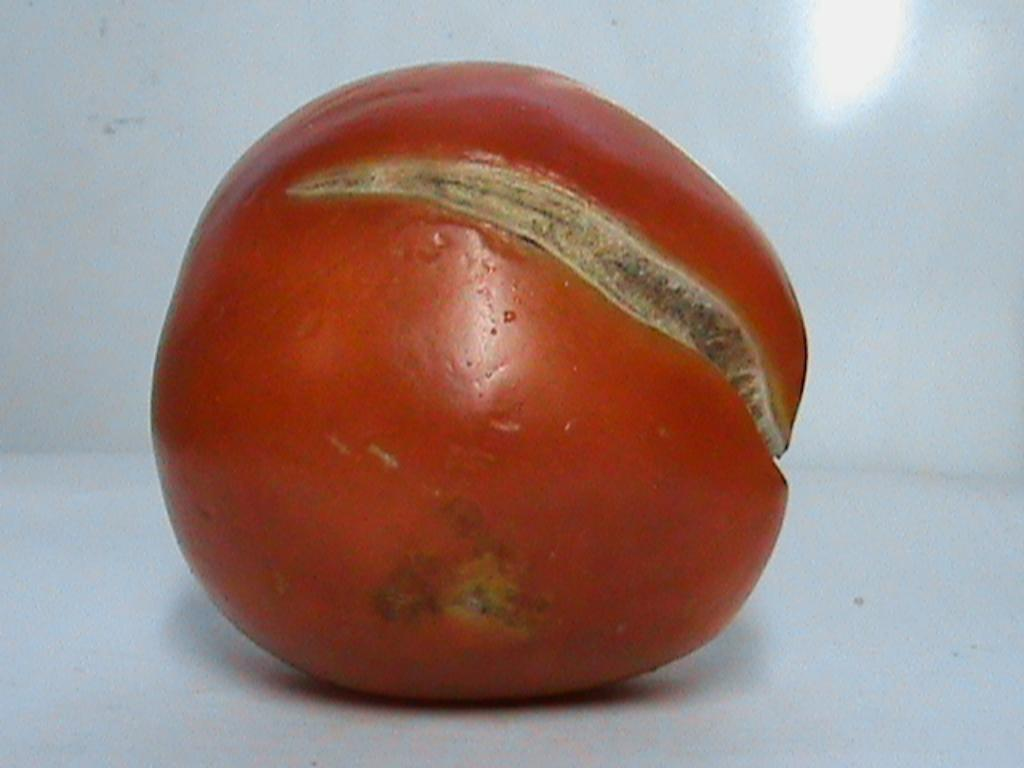bruise_discoloration: (376, 499, 547, 635)
surface_damage: (288, 157, 790, 454), (365, 445, 398, 467), (328, 435, 352, 454), (491, 421, 520, 430)
tomato: (154, 66, 805, 698)
